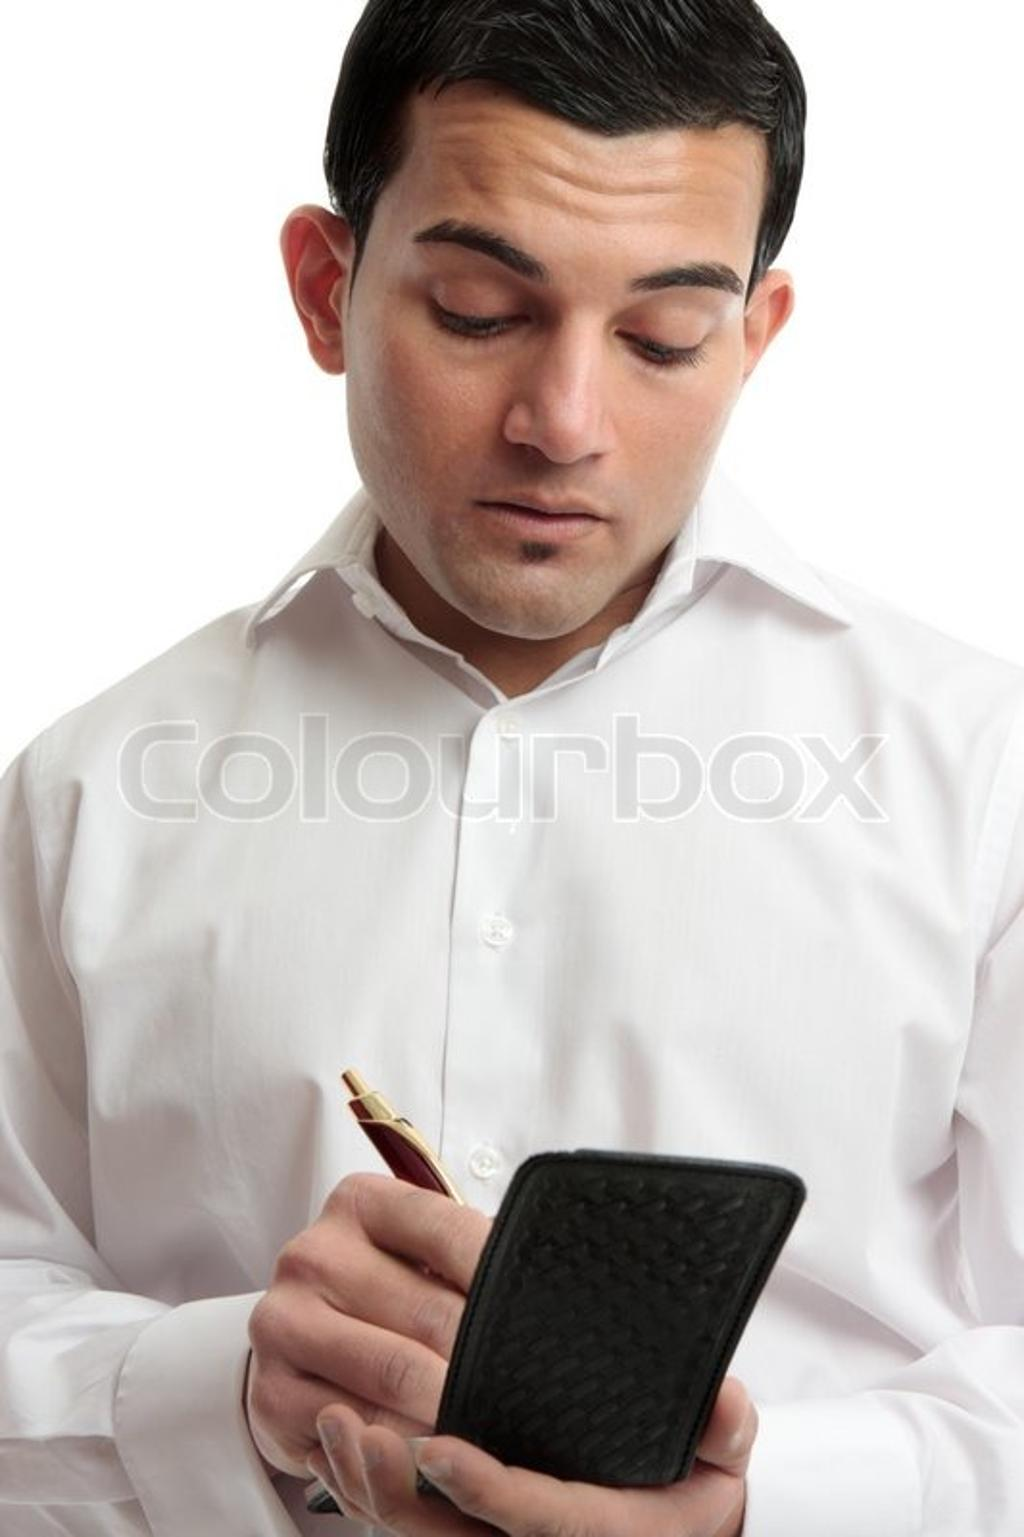face: (354, 84, 756, 634)
